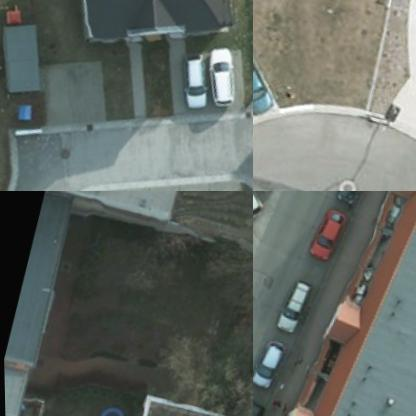car: (194, 40, 240, 107), (300, 201, 346, 262), (271, 274, 310, 336), (173, 54, 215, 110), (253, 335, 285, 388), (328, 191, 366, 210)
pickup: (253, 30, 287, 124)
